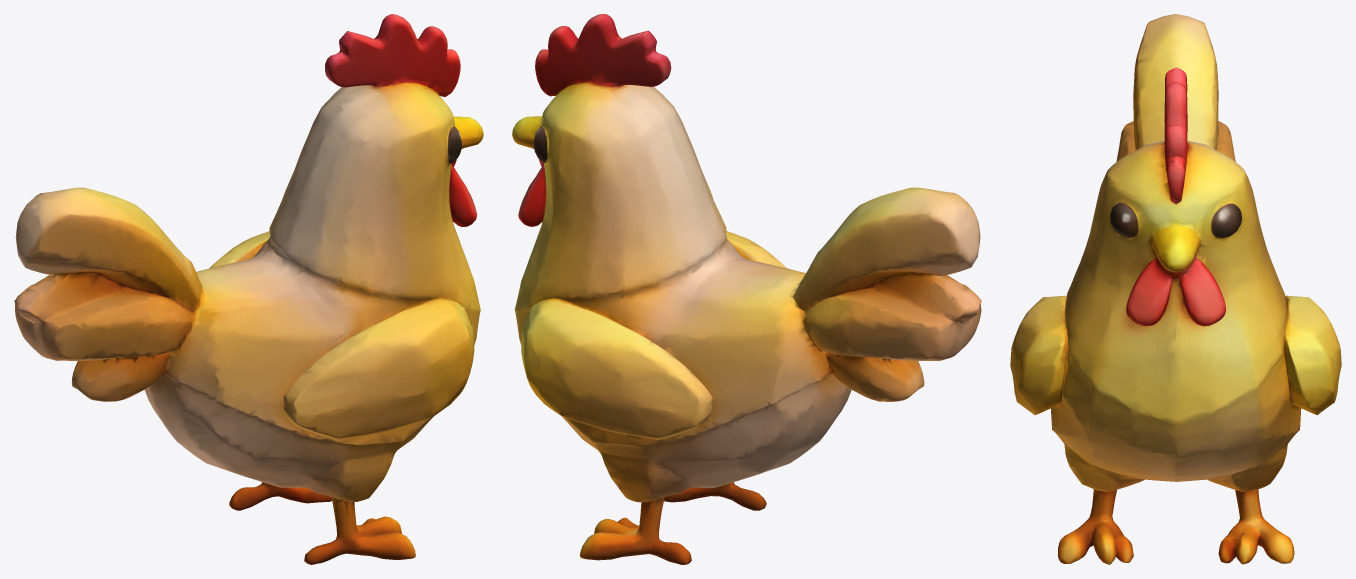
Rendered from rooster.glb.
3 renders of one model, left to right at view 1: azimuth 30°, elevation 25°; view 2: azimuth 150°, elevation 25°; view 3: azimuth 270°, elevation 25°, orthographic.
Visible parts, largest first — view 1: tripo_node_2e2ccd90-f4d1-47da-96f0-1962c3585171; view 2: tripo_node_2e2ccd90-f4d1-47da-96f0-1962c3585171; view 3: tripo_node_2e2ccd90-f4d1-47da-96f0-1962c3585171.
Part boxes in pixels (x1,y1,x2,y2): tripo_node_2e2ccd90-f4d1-47da-96f0-1962c3585171: (14,14,483,564); tripo_node_2e2ccd90-f4d1-47da-96f0-1962c3585171: (512,14,981,564); tripo_node_2e2ccd90-f4d1-47da-96f0-1962c3585171: (1010,14,1341,564).
Bounding box in the file's own units: 0.9824 × 1 × 0.6021.
1 material, 1 textured.
